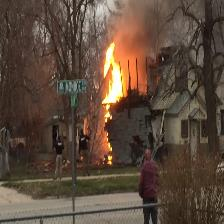fire: (103, 43, 124, 103)
